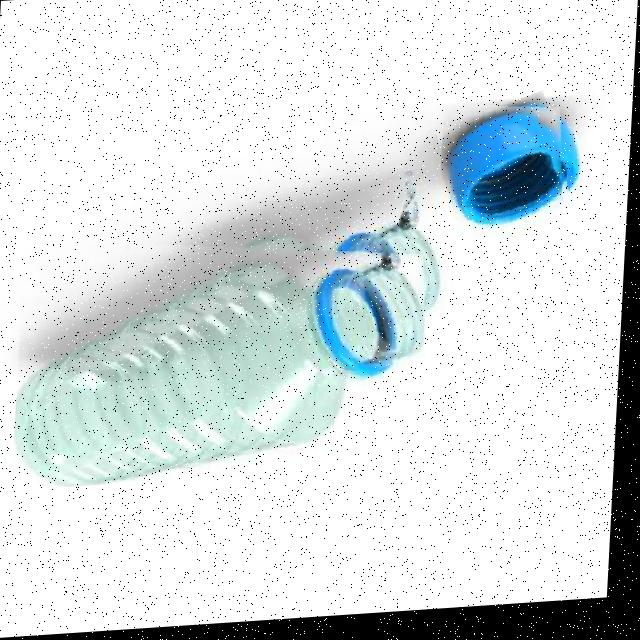plasticbottle: (16, 215, 444, 490)
plasticbottlecap: (439, 103, 572, 246)
